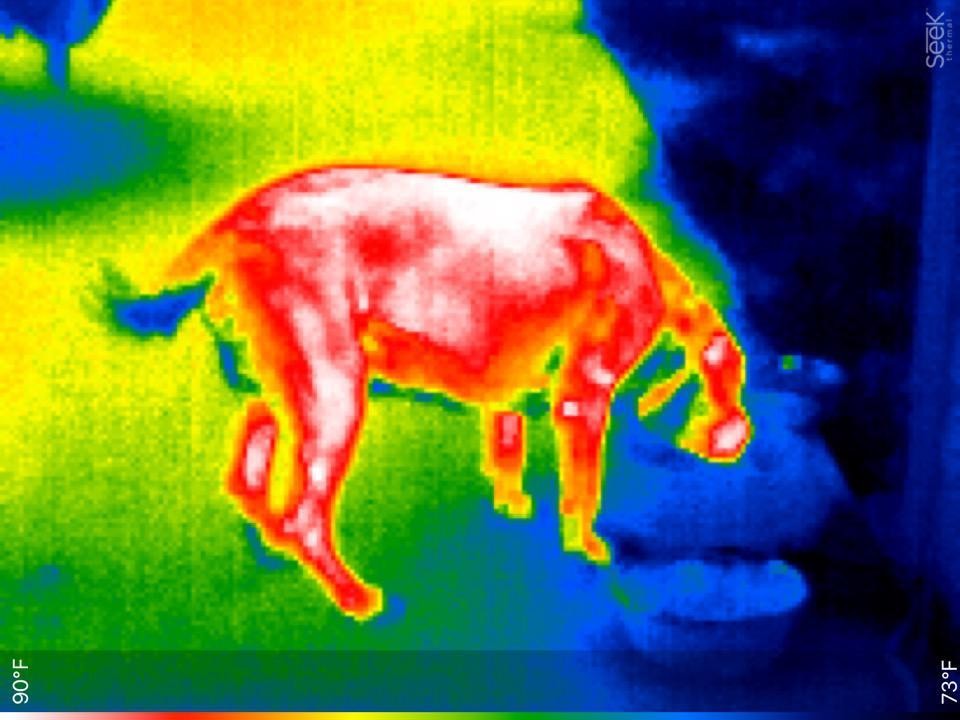dog: (160, 156, 759, 624)
